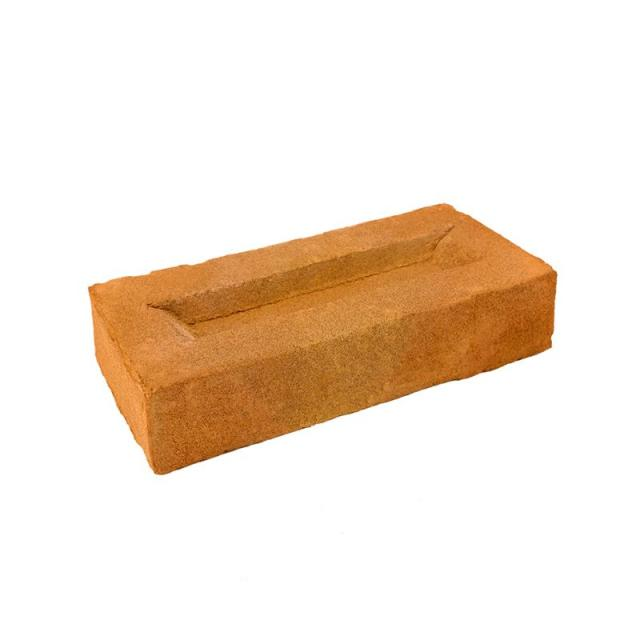bricks: (89, 198, 556, 479)
